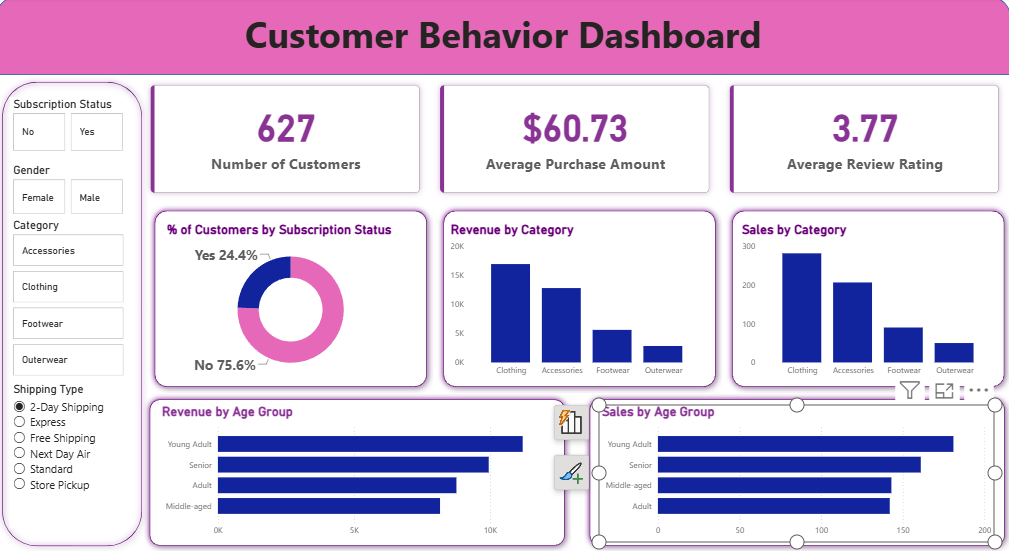

Layout of this report page (visuals, bound fields, positions):
{"tool":"powerbi","page":{"name":"Page 1","canvas":[1500,820],"ordinal":0},"visuals":[{"type":"cardVisual","fields":{"Data":["public customer.Number of Customers","public customer.Average Purchase Amount","public customer.Average Review Rating"]},"box":[212.9,115.3,1286.5,191.6],"z":2000},{"type":"shape","box":[218.3,585.6,631.7,234.2],"z":2500,"group":"g1"},{"type":"shape","box":[0,0,1499.4,115.3],"z":3000},{"type":"textbox","box":[0,12.4,1499.4,102.9],"z":4000},{"type":"shape","box":[225.4,307,420.5,278.6],"z":5000},{"type":"donutChart","title":"% of Customers by Subscription Status","fields":{"Category":["public customer.subscription_status"],"Y":["CountNonNull(public customer.customer_id)"]},"box":[248.4,331.8,376.2,237.8],"z":6000},{"type":"shape","box":[1078.9,307,420.5,278.6],"z":7000},{"type":"shape","box":[652.1,307,420.5,278.6],"z":8000},{"type":"clusteredColumnChart","title":"Revenue by Category","fields":{"Y":["Sum(public customer.purchase_amount)"],"Category":["public customer.category"]},"box":[667.2,331.8,385.1,237.8],"z":9000},{"type":"clusteredColumnChart","title":"Sales by Category","fields":{"Y":["CountNonNull(public customer.customer_id)"],"Category":["public customer.category"]},"box":[1096.6,331.8,385.1,237.8],"z":10000},{"type":"shape","box":[0,116.1,224.9,704.2],"z":11000},{"type":"advancedSlicerVisual","fields":{"Values":["public customer.subscription_status"]},"box":[20.3,147.5,173.3,84.8],"z":12000},{"type":"advancedSlicerVisual","fields":{"Values":["public customer.gender"]},"box":[20.3,245.2,173.3,81.1],"z":13000},{"type":"advancedSlicerVisual","fields":{"Values":["public customer.category"]},"box":[20.3,326.3,173.3,239.7],"z":14000},{"type":"listSlicer","fields":{"Values":["public customer.shipping_type"]},"box":[20.3,569.7,173.3,215.7],"z":15000},{"type":"shape","box":[867.7,585.6,631.7,234.2],"z":16000},{"type":"clusteredBarChart","title":"Sales by Age Group","fields":{"Y":["CountNonNull(public customer.customer_id)"],"Category":["public customer.age_group"]},"box":[890.8,601.5,585.6,204.1],"z":17000},{"type":"clusteredBarChart","title":"Revenue by Age Group","fields":{"Y":["Sum(public customer.purchase_amount)"],"Category":["public customer.age_group"]},"box":[241.4,601.6,585.6,204.1],"z":17500,"group":"g1"},{"type":"group","id":"g1","title":"Group 1","box":[218.3,585.6,631.7,234.2],"z":17501}]}

Visuals, with their boxes in screenshot pixels (x1, y1, x2, y2), scaled from the page's 1500x820 canvas onto the 1009x551 screenshot:
cardVisual - public customer.Number of Customers x public customer.Average Purchase Amount: Rect(143, 77, 1008, 206)
shape: Rect(147, 393, 572, 550)
shape: Rect(0, 0, 1008, 77)
textbox: Rect(0, 8, 1008, 77)
shape: Rect(152, 206, 434, 393)
"% of Customers by Subscription Status" donutChart: Rect(167, 223, 420, 383)
shape: Rect(726, 206, 1008, 393)
shape: Rect(439, 206, 722, 393)
"Revenue by Category" clusteredColumnChart: Rect(449, 223, 708, 383)
"Sales by Category" clusteredColumnChart: Rect(738, 223, 997, 383)
shape: Rect(0, 78, 151, 550)
advancedSlicerVisual - public customer.subscription_status: Rect(14, 99, 130, 156)
advancedSlicerVisual - public customer.gender: Rect(14, 165, 130, 219)
advancedSlicerVisual - public customer.category: Rect(14, 219, 130, 380)
listSlicer - public customer.shipping_type: Rect(14, 383, 130, 528)
shape: Rect(584, 393, 1008, 550)
"Sales by Age Group" clusteredBarChart: Rect(599, 404, 993, 541)
"Revenue by Age Group" clusteredBarChart: Rect(162, 404, 556, 541)
"Group 1" group: Rect(147, 393, 572, 550)
